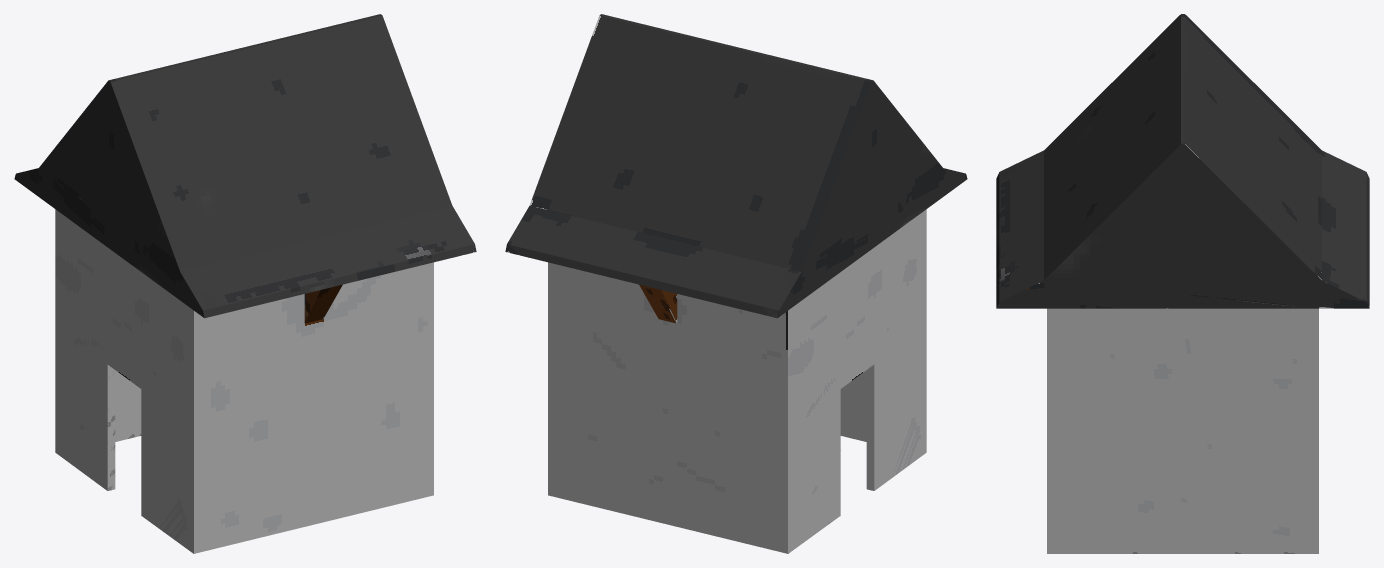
Rendered from GermanHouse1.glb.
3 renders of one model, left to right at view 1: azimuth 30°, elevation 25°; view 2: azimuth 150°, elevation 25°; view 3: azimuth 270°, elevation 25°, orthographic.
Visible parts, largest first — view 1: Cube; view 2: Cube; view 3: Cube.
Part boxes in pixels (x1,y1,x2,y2): Cube: (14,14,476,553); Cube: (505,14,967,553); Cube: (996,14,1369,553).
Size of the model in its own units: 8.4 by 12.57 by 10.17.
1 material, 1 textured.
